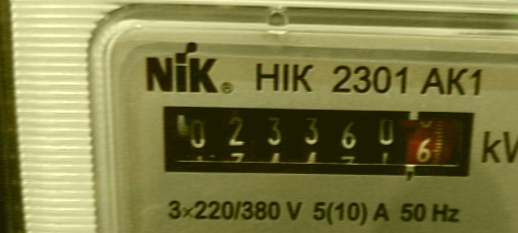0: (187, 115, 208, 149), (378, 115, 396, 146)
2: (225, 113, 249, 147)
3: (263, 114, 285, 146), (302, 113, 322, 145)
6: (338, 117, 358, 149), (413, 133, 434, 163)
screen: (144, 88, 488, 191)
